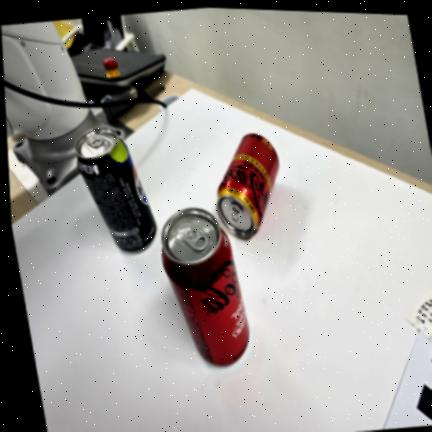can_coke_decaf: (217, 133, 278, 237)
can_coke_zero: (161, 207, 249, 365)
can_pepsi_zero: (75, 126, 156, 251)
